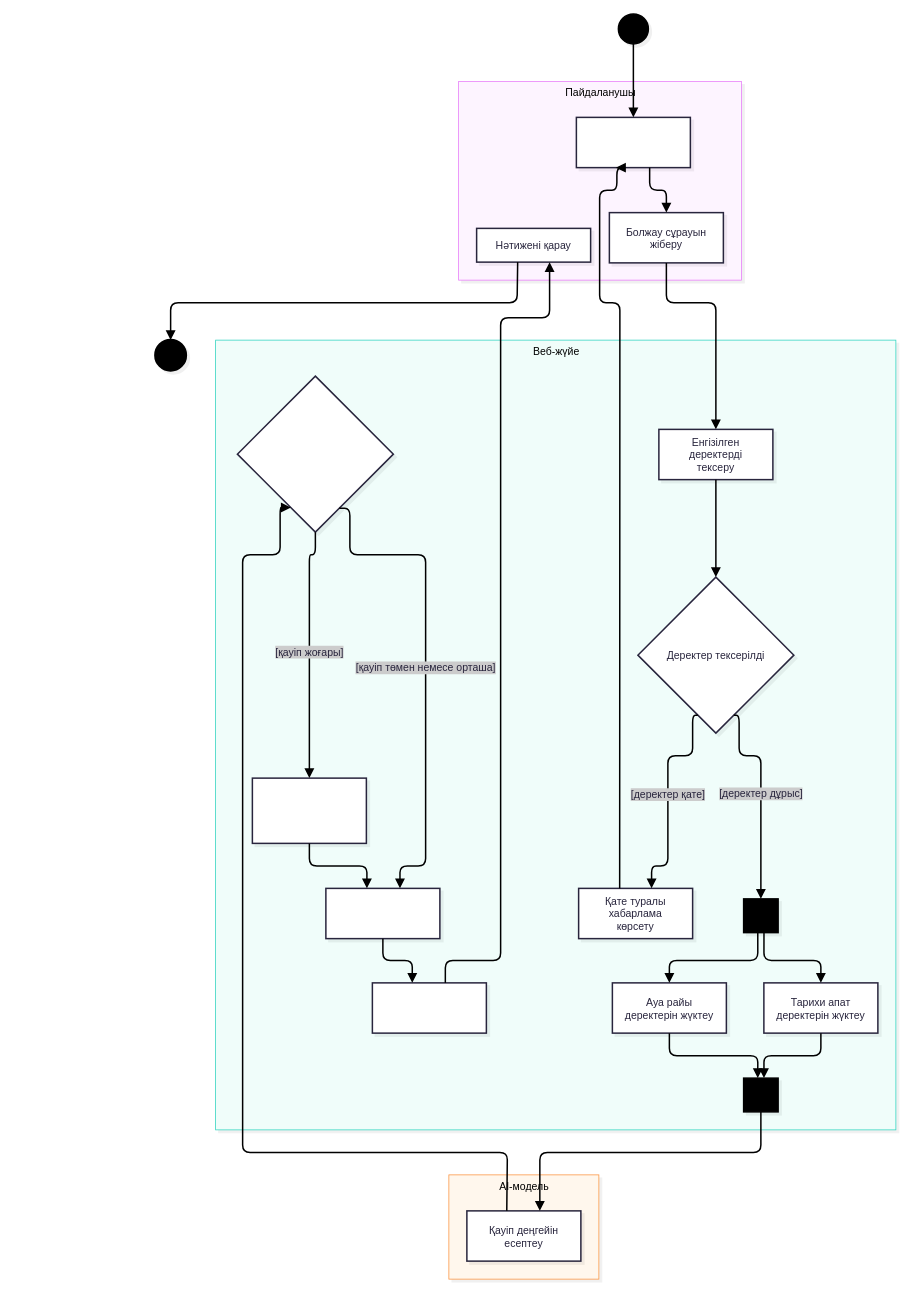
This 912x1295 diagram has some shape labels left out. The shapes that lost their labels are listed below. From the top down, each one's centre as x and y in pixels, then its label:
At pixel 634 143: "Аудан, күн, уақытты таңдау".
At pixel 316 455: "Қауіп деңгейі".
At pixel 310 812: "Ескерту хабарламасын қалыптастыру".
At pixel 384 914: "Сұрауды деректер қорына сақтау".
At pixel 430 1009: "Қауіп картасын көрсету".
